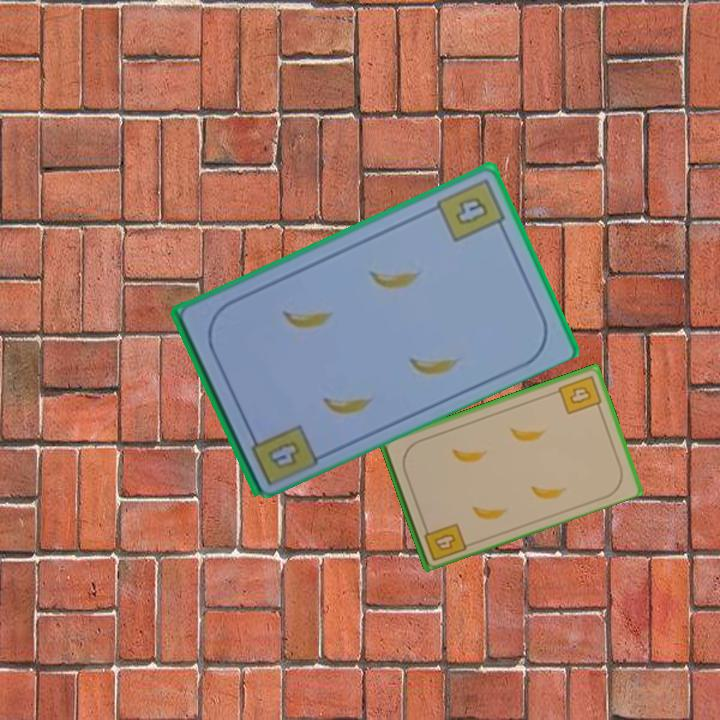4b: (433, 174, 509, 245), (555, 372, 605, 417), (420, 519, 469, 564), (264, 436, 304, 472)
